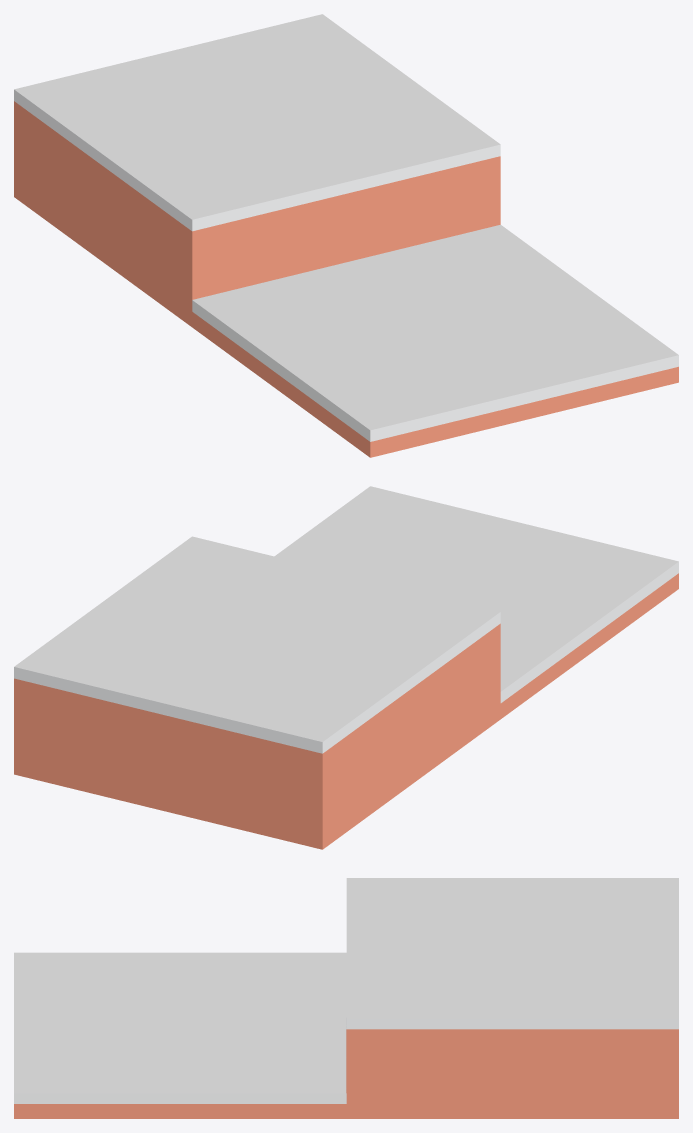
Rendered from platform_001.glb.
The picture shows the model from 3 angles, top to bottom: view 1: azimuth 30°, elevation 25°; view 2: azimuth 150°, elevation 25°; view 3: azimuth 270°, elevation 25°; orthographic projection. The views are drawn at different scales.
Visible parts, largest first — view 1: platform_001; view 2: platform_001; view 3: platform_001.
Part boxes in pixels (<box>): platform_001: <box>14,14,678,457</box>; platform_001: <box>14,486,678,849</box>; platform_001: <box>14,878,678,1118</box>.
Size of the model in its own units: 15 by 5 by 30.
1 material, 1 textured.
